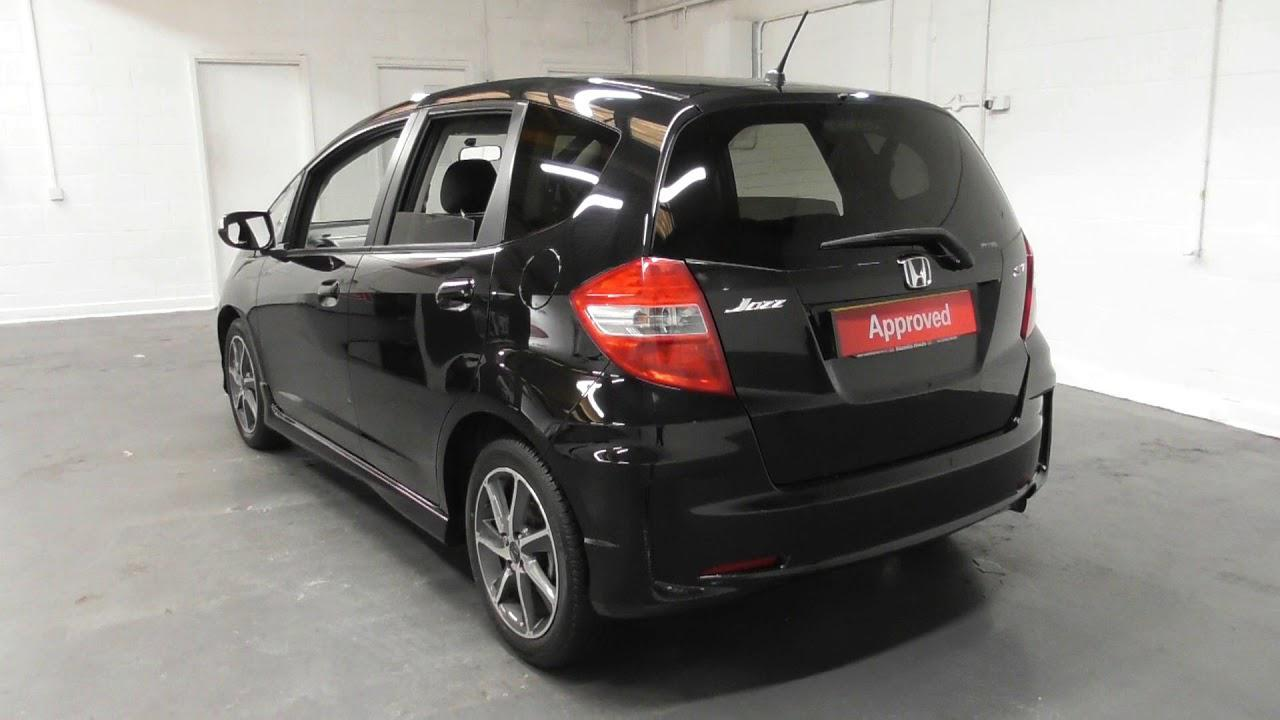Hatchback: (196, 59, 1077, 673)
